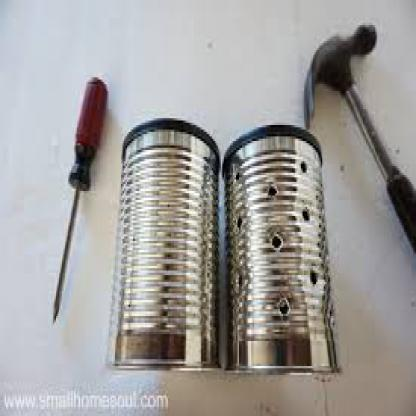Compsot: (221, 120, 339, 378), (109, 118, 219, 371), (301, 20, 375, 125), (343, 80, 392, 177), (50, 184, 79, 323)
